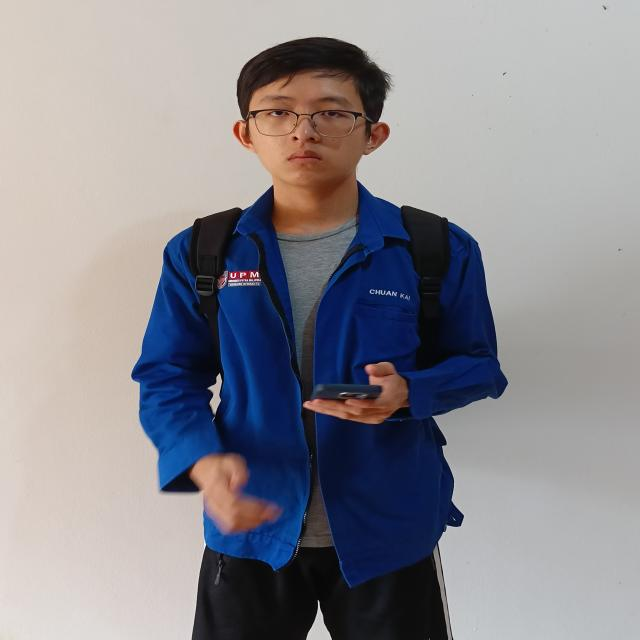person_with_labcoat: (132, 38, 507, 640)
